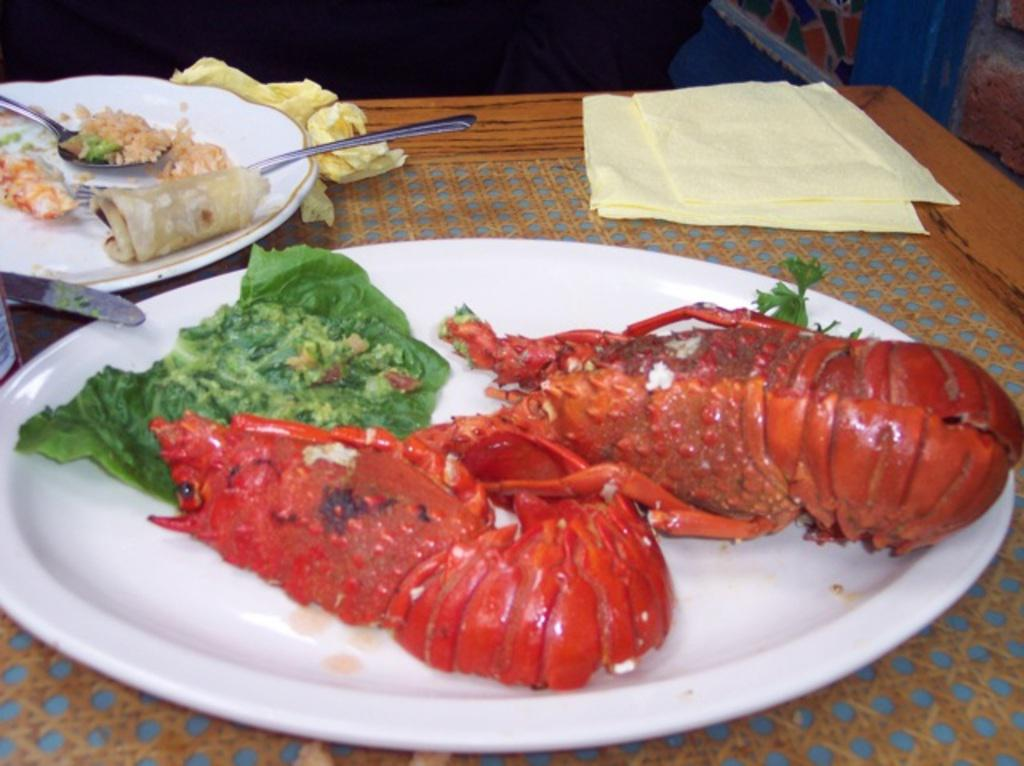Lobster: (144, 297, 1022, 691)
